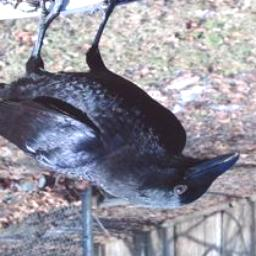Crow: (0, 0, 240, 210)
